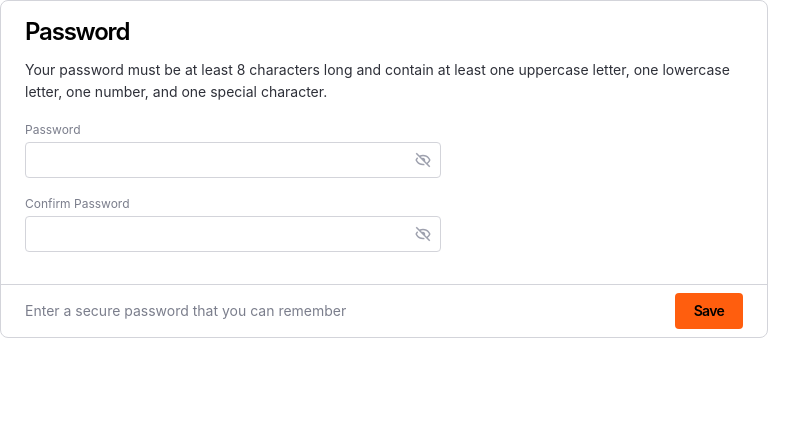
Test: <PasswordField /> › should show errors if password doesn't match or password is invalid
Type "test" into the password field labelled "Password" at (216, 160), box [26,149,406,170]
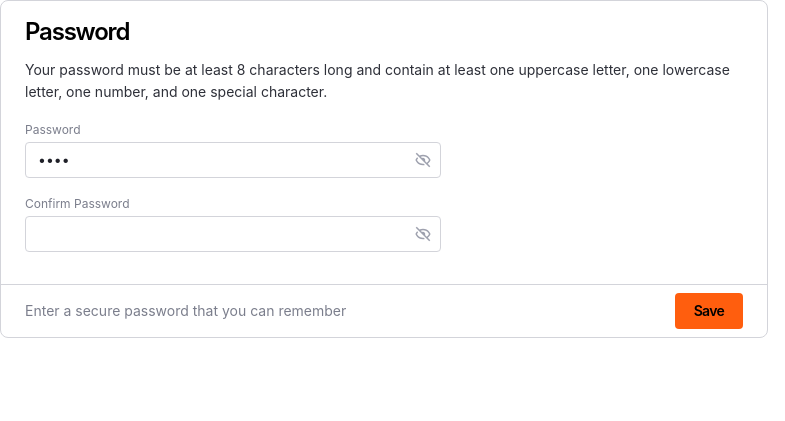
Type "wrongPassword" into the password field labelled "Confirm Password" at (216, 234), box [26,223,406,244]
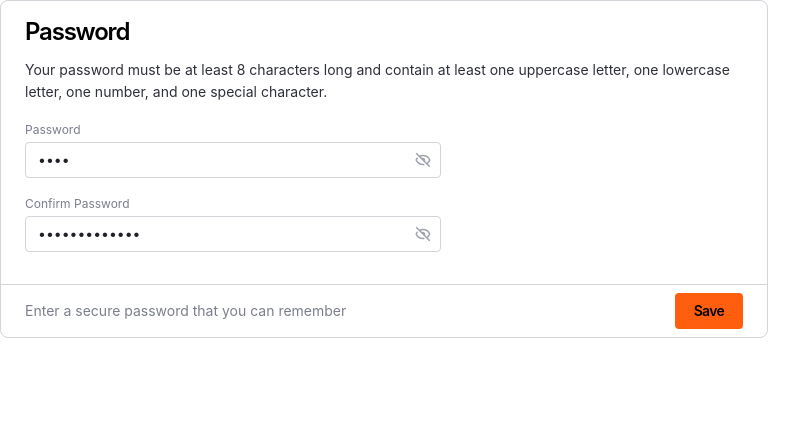
Click the button "Save" at (709, 311), box [675,293,743,329]
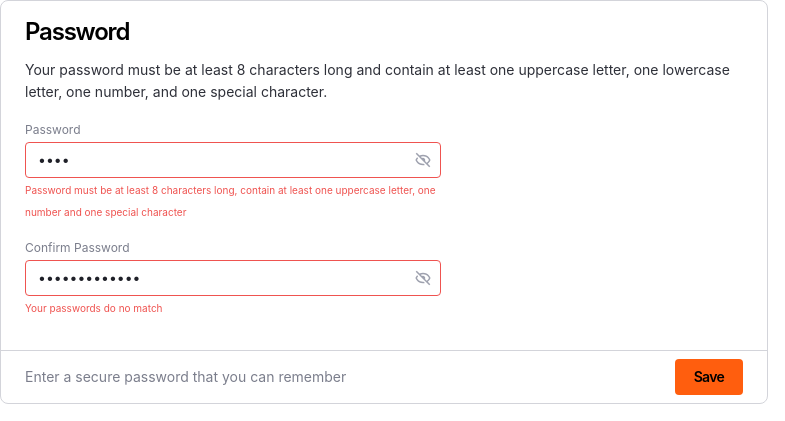
Check: the text "Your passwords do no match" is shown, box [25,302,162,314]
Check: the text "Password must be at least 8 characters long, contain at least one uppercase letter, one number and one special character" is shown, box [25,184,436,218]
